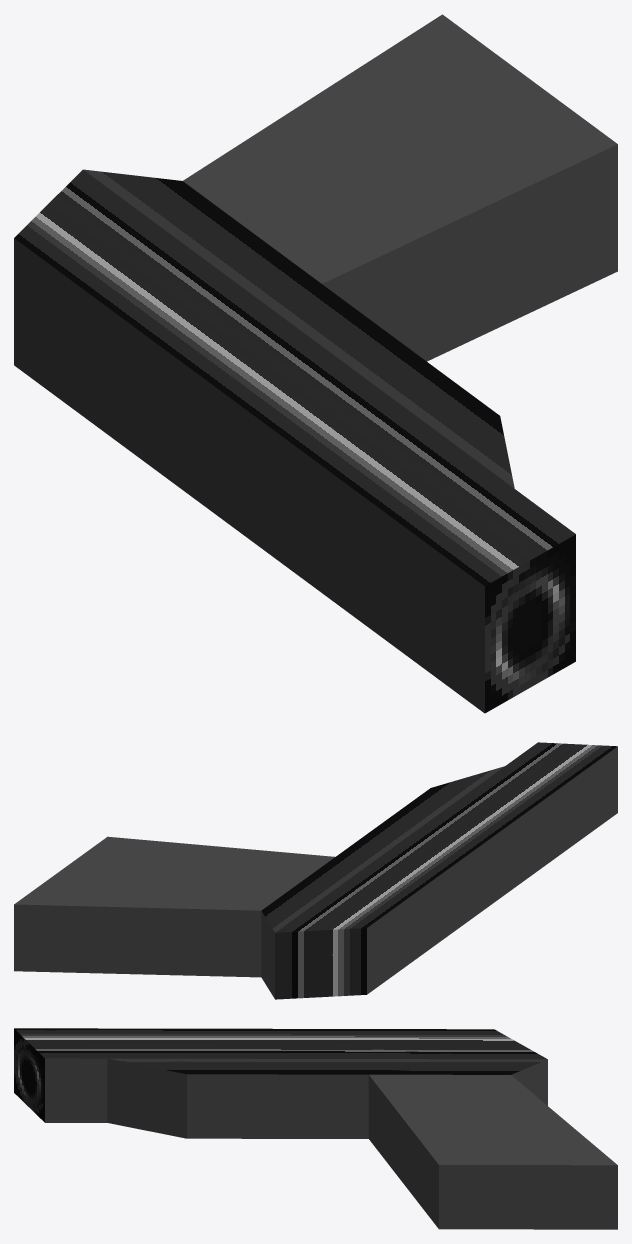
File: primary_034.glb
The picture shows the model from 3 angles, top to bottom: view 1: azimuth 30°, elevation 25°; view 2: azimuth 150°, elevation 25°; view 3: azimuth 270°, elevation 25°; orthographic projection. The views are drawn at different scales.
Parts seen in each view (by area): view 1: Object; view 2: Object; view 3: Object.
Boxes of the visible parts, x1,y1,x2,y2 form: Object: (14,14,617,713); Object: (14,742,617,999); Object: (14,1028,617,1229).
Size of the model in its own units: 0.1289 by 0.0283 by 0.2403.
3 materials, 3 textured.
